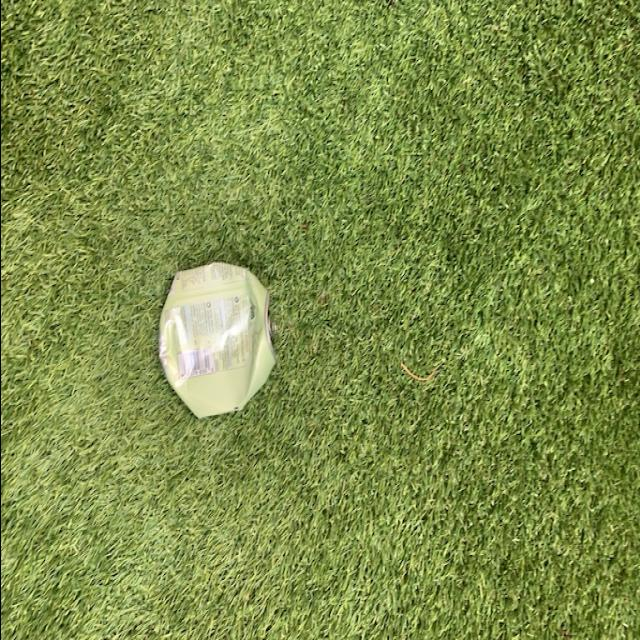litter: (156, 260, 274, 416)
